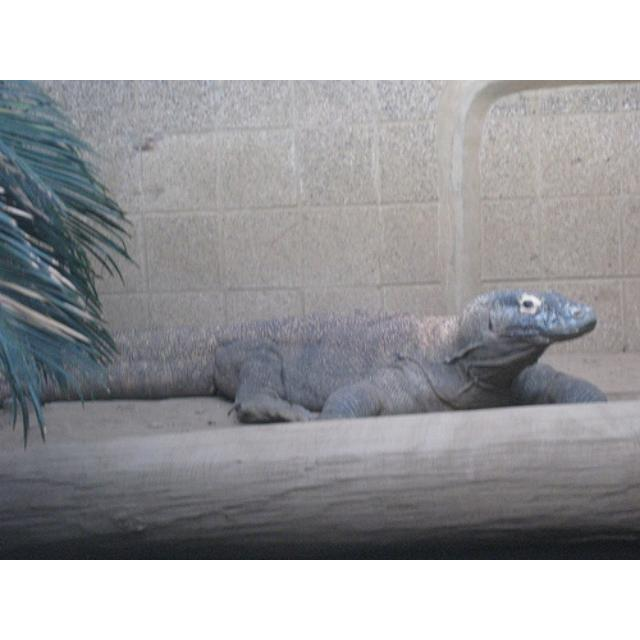KomodoDragon: (0, 289, 606, 424)
